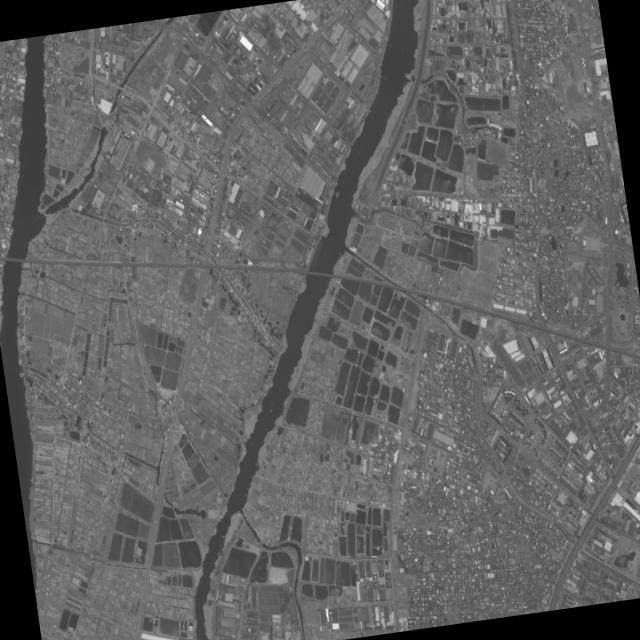plane: (536, 59, 544, 70)
